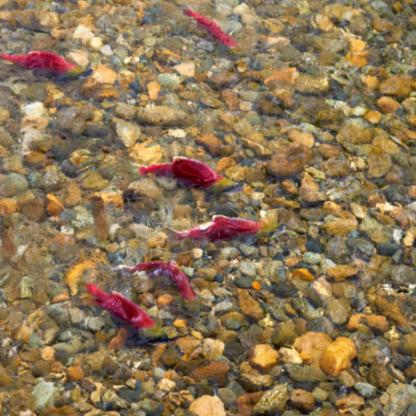sockeye: (1, 44, 81, 92), (133, 250, 197, 308), (162, 208, 264, 243), (138, 152, 222, 192), (89, 281, 148, 334), (188, 6, 241, 49)
